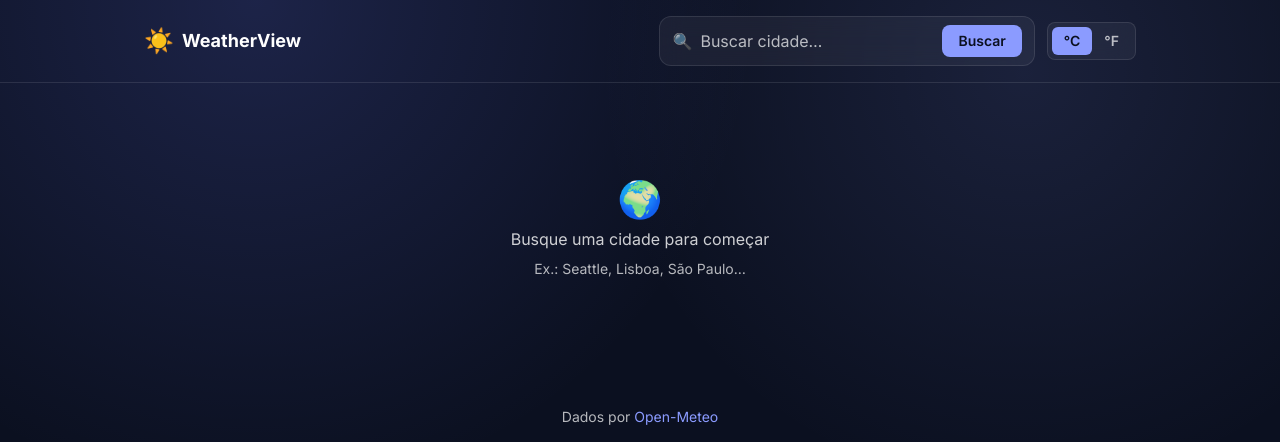
Test: App › mostra estado vazio quando não encontra cidades
Step 1. Type "Atlantis" into the field labelled "Buscar cidade…" → (817, 41), box [700,29,934,53]
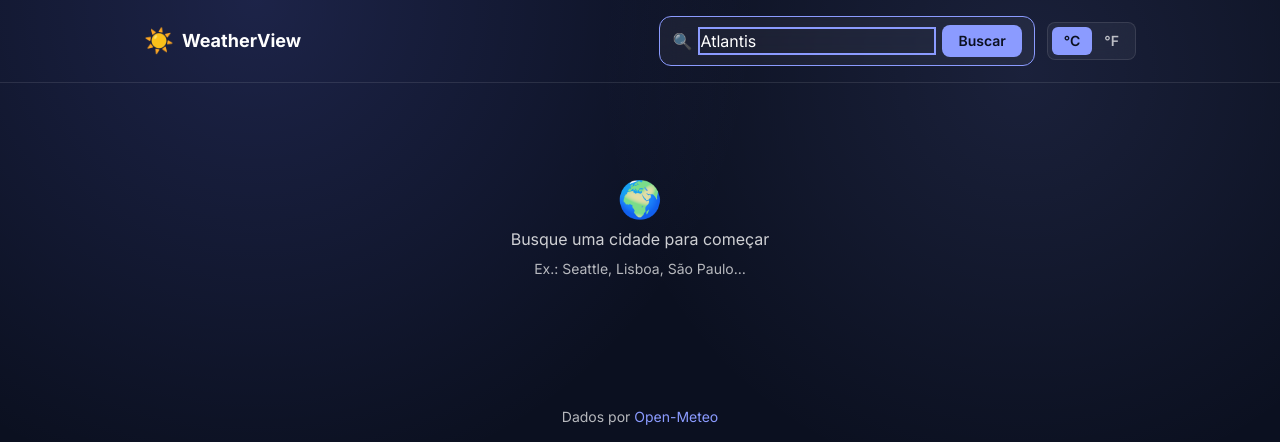
Step 2. Click the button "Buscar" → (982, 41), box [942,25,1022,57]
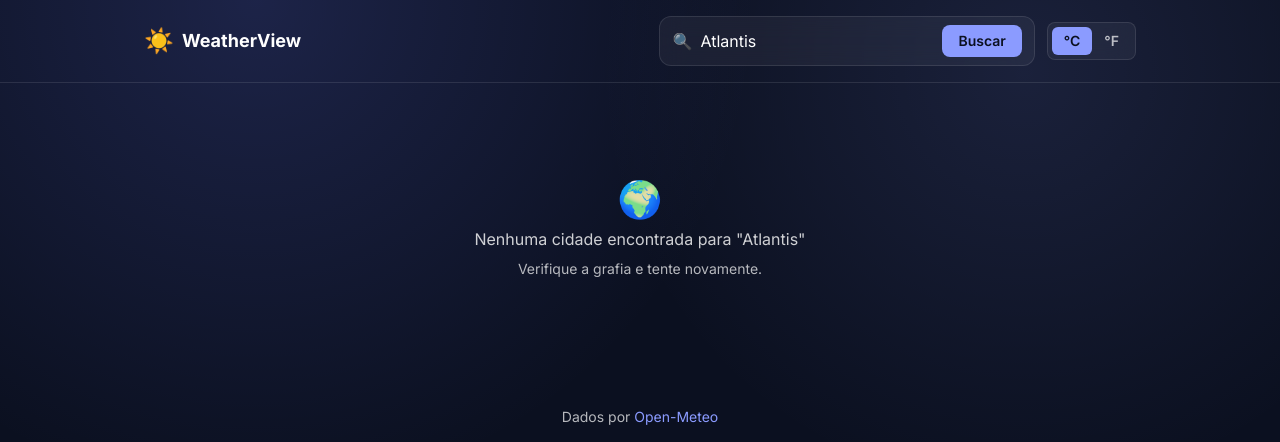
Expected: the text "Nenhuma cidade encontrada para \"Atlantis\"" is shown, [474,227,806,251]
